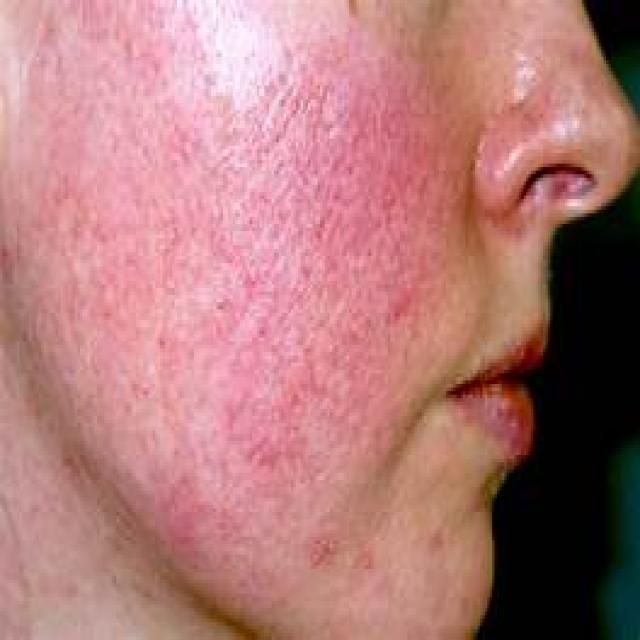Rosacea: (128, 66, 426, 505)
